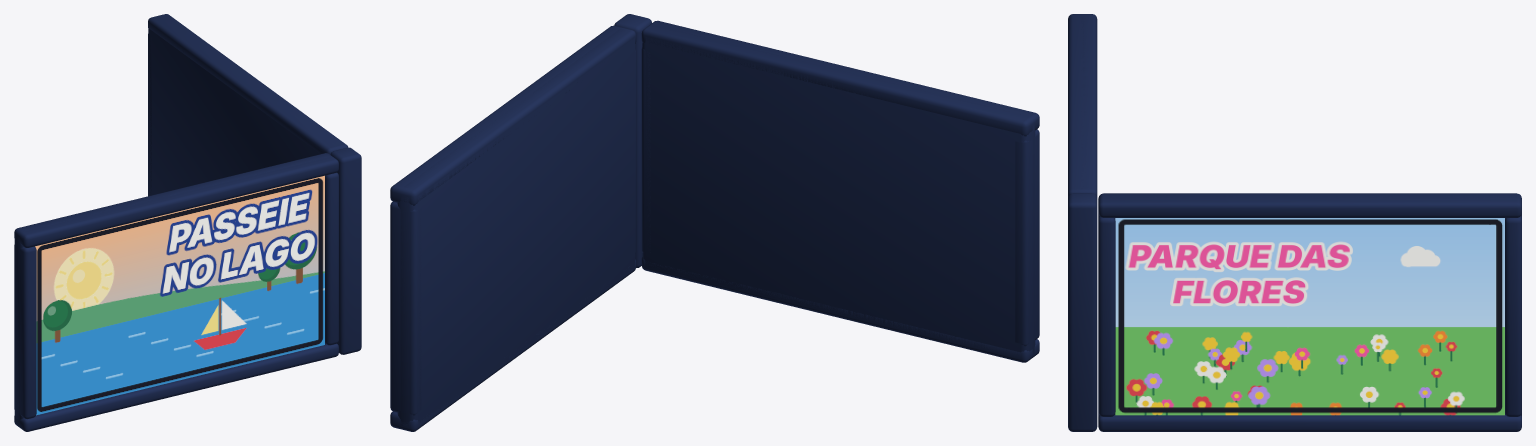
The model's file is painel_esquina_lago.glb.
3 views of the same model, side by side, from view 1: azimuth 30°, elevation 25°; view 2: azimuth 150°, elevation 25°; view 3: azimuth 270°, elevation 25° (orthographic). The views are drawn at different scales.
Parts seen in each view (by area): view 1: painel_esquina_lago; view 2: painel_esquina_lago; view 3: painel_esquina_lago.
Part boxes in pixels (<box>): painel_esquina_lago: <box>14,14,361,431</box>; painel_esquina_lago: <box>390,14,1039,431</box>; painel_esquina_lago: <box>1068,14,1521,431</box>.
Size of the model in its own units: 3.73 by 2.08 by 3.73.
Materials: 3 (3 with a texture image).
